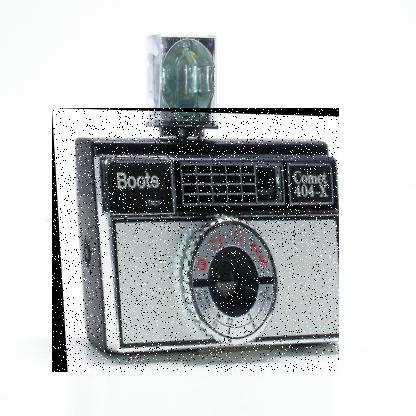Camera: (54, 109, 342, 374)
